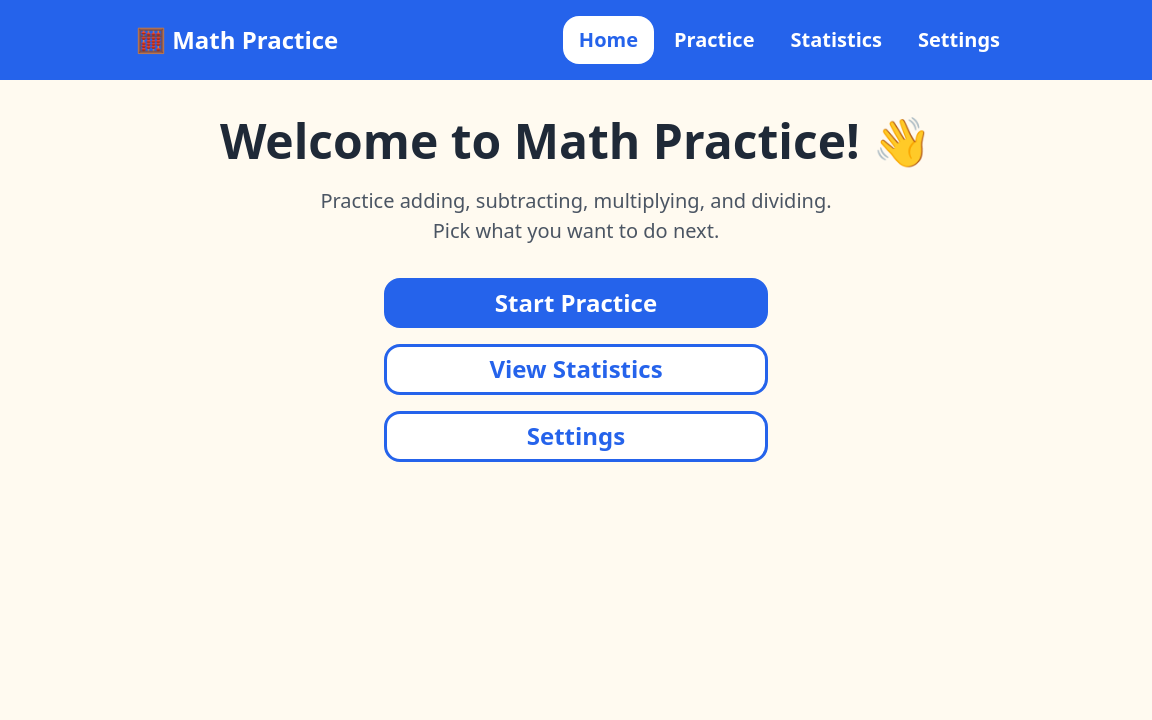
Test: HomePage › the "Start Practice" button goes to /practice/setup
Click the link "Start Practice" at (576, 303), box [384,278,768,328]
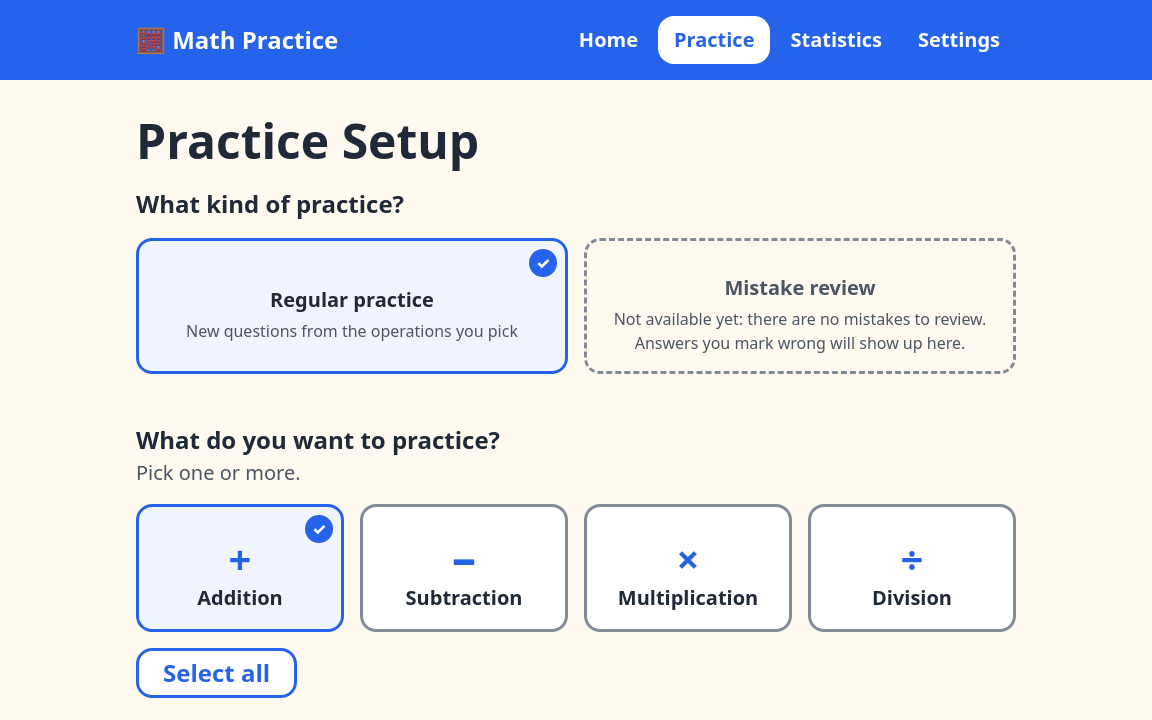
Expected: the heading "Practice Setup" is shown, [136,108,479,173]
